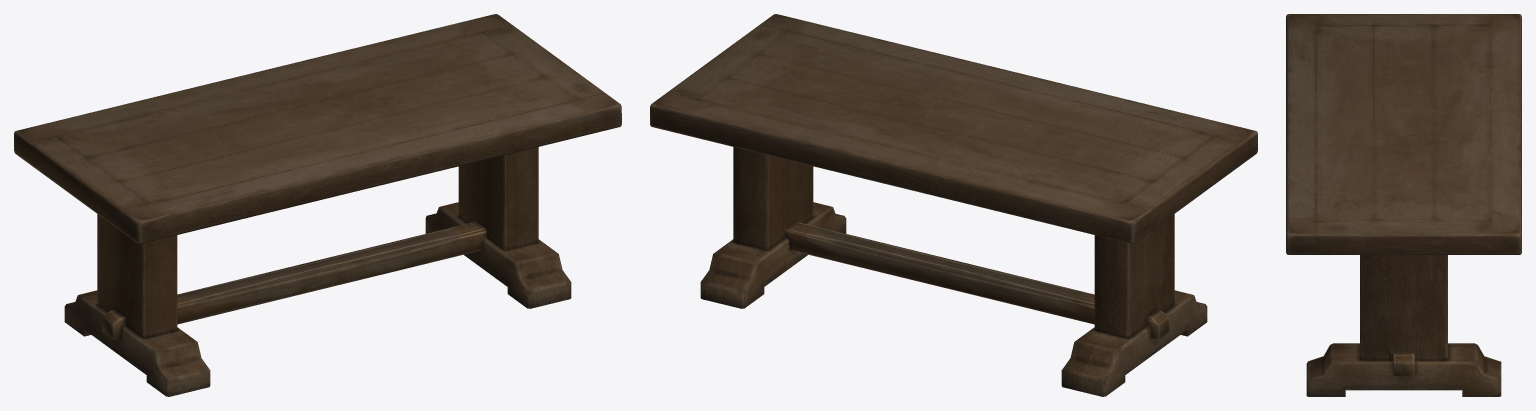
Rendered from WoodTable.fbx.
The picture shows the model from 3 angles, left to right: view 1: azimuth 30°, elevation 25°; view 2: azimuth 150°, elevation 25°; view 3: azimuth 270°, elevation 25°; orthographic projection. The views are drawn at different scales.
Parts seen in each view (by area): view 1: WoodTable; view 2: WoodTable; view 3: WoodTable.
Part boxes in pixels (bbox=[...]): WoodTable: bbox=[14, 14, 621, 396]; WoodTable: bbox=[650, 14, 1257, 396]; WoodTable: bbox=[1286, 14, 1521, 396].
Size of the model in its own units: 400 by 152 by 180.
